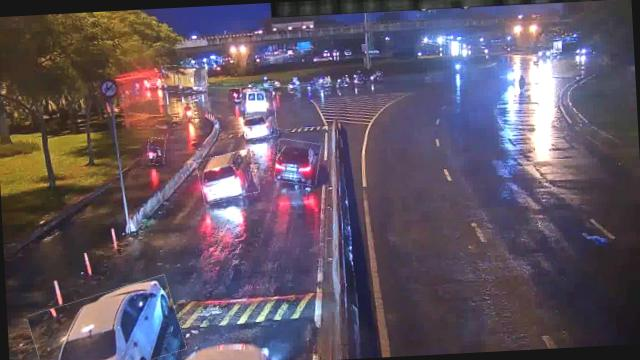Bike: (146, 136, 166, 165), (181, 100, 193, 122)
Bus: (240, 85, 276, 117)
Car: (28, 280, 183, 360), (197, 151, 258, 203), (273, 138, 321, 185), (243, 110, 277, 140)
Truck: (160, 64, 207, 94)
